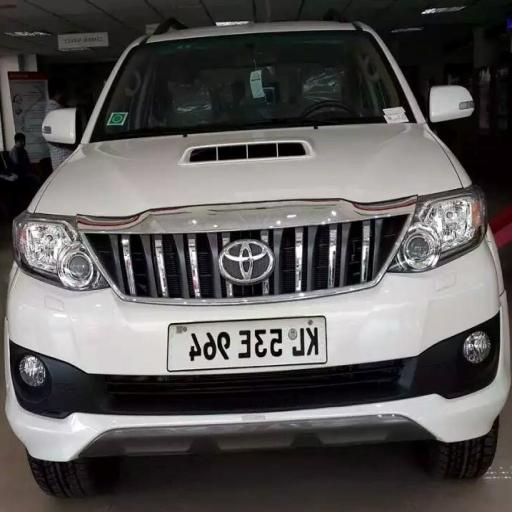License: (164, 308, 327, 374)
